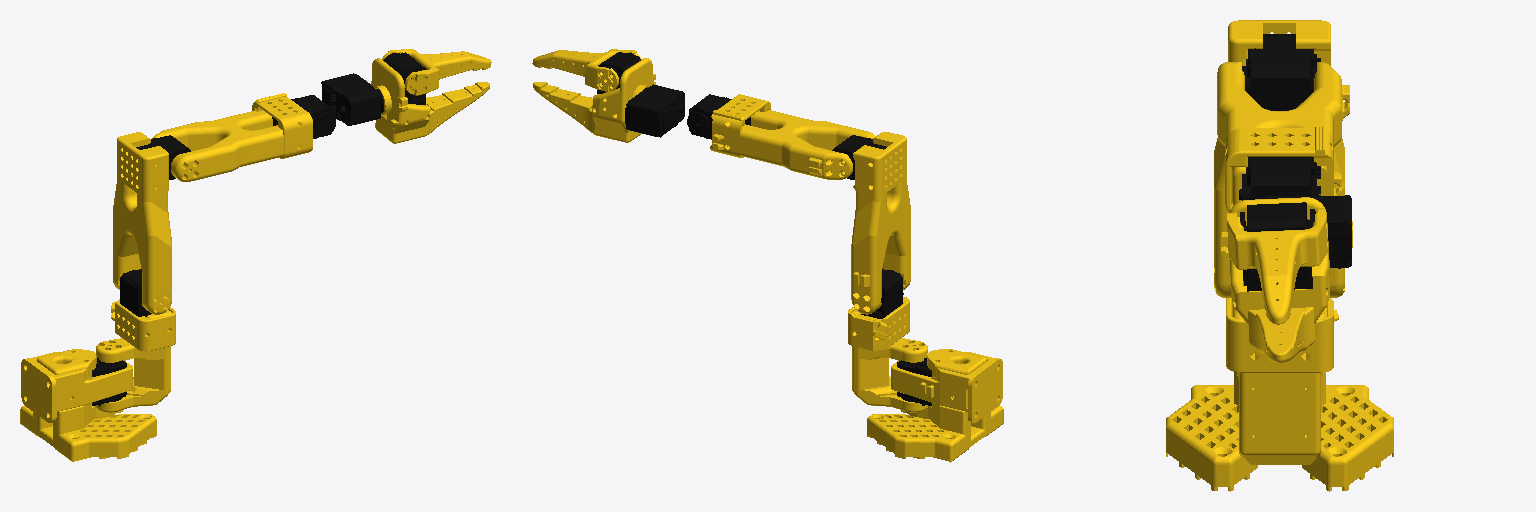
The robot description file, URDF, robot "so101_new_calib":
<?xml version="1.0" encoding="utf-8"?>
<!-- Generated using onshape-to-robot -->
<!-- Onshape https://cad.onshape.com/documents/7715cc284bb430fe6dab4ffd/w/4fd0791b683777b02f8d975a/e/826c553ede3b7592eb9ca800 -->
<robot name="so101_new_calib">

  <!-- Materials -->
  <material name="3d_printed">
    <color rgba="1.0 0.82 0.12 1.0"/>
  </material>
  <material name="sts3215">
    <color rgba="0.1 0.1 0.1 1.0"/>
  </material>

  <!-- Link base -->
  <link name="base_link">
    <inertial>
      <origin xyz="0.0137179 -5.19711e-05 0.0334843" rpy="0 0 0"/>
      <mass value="0.147"/>
      <inertia ixx="0.000114686" ixy="-4.59787e-07" ixz="4.97151e-06" iyy="0.000136117" iyz="9.75275e-08" izz="0.000130364"/>
    </inertial>
    <!-- Part base_motor_holder_so101_v1 -->
    <visual>
      <origin xyz="-0.00636471 -9.94414e-05 -0.0024" rpy="1.5708 -1.67685e-15 1.5708"/>
      <geometry>
        <mesh filename="assets/base_motor_holder_so101_v1.obj"/>
      </geometry>
      <material name="3d_printed"/>
    </visual>
    <collision>
      <origin xyz="-0.00636471 -9.94414e-05 -0.0024" rpy="1.5708 -1.67685e-15 1.5708"/>
      <geometry>
        <mesh filename="assets/base_motor_holder_so101_v1.obj"/>
      </geometry>
    </collision>
    <!-- Part base_so101_v2 -->
    <visual>
      <origin xyz="-0.00636471 -8.97657e-09 -0.0024" rpy="1.5708 -2.78073e-29 1.5708"/>
      <geometry>
        <mesh filename="assets/base_so101_v2.obj"/>
      </geometry>
      <material name="3d_printed"/>
    </visual>
    <collision>
      <origin xyz="-0.00636471 -8.97657e-09 -0.0024" rpy="1.5708 -2.78073e-29 1.5708"/>
      <geometry>
        <mesh filename="assets/base_so101_v2.obj"/>
      </geometry>
    </collision>
    <!-- Part sts3215_03a_v1 -->
    <visual>
      <origin xyz="0.0263353 -8.97657e-09 0.0437" rpy="-8.21148e-16 7.84513e-18 1.249e-15"/>
      <geometry>
        <mesh filename="assets/sts3215_03a_v1.obj"/>
      </geometry>
      <material name="sts3215"/>
    </visual>
    <collision>
      <origin xyz="0.0263353 -8.97657e-09 0.0437" rpy="-8.21148e-16 7.84513e-18 1.249e-15"/>
      <geometry>
        <mesh filename="assets/sts3215_03a_v1.obj"/>
      </geometry>
    </collision>
    <!-- Part waveshare_mounting_plate_so101_v2 -->
    <visual>
      <origin xyz="-0.0309827 -0.000199441 0.0474" rpy="1.5708 -1.35493e-14 1.5708"/>
      <geometry>
        <mesh filename="assets/waveshare_mounting_plate_so101_v2.obj"/>
      </geometry>
      <material name="3d_printed"/>
    </visual>
    <collision>
      <origin xyz="-0.0309827 -0.000199441 0.0474" rpy="1.5708 -1.35493e-14 1.5708"/>
      <geometry>
        <mesh filename="assets/waveshare_mounting_plate_so101_v2.obj"/>
      </geometry>
    </collision>
  </link>

  <!-- Link shoulder -->
  <link name="shoulder_link">
    <inertial>
      <origin xyz="-0.0307604 -1.66727e-05 -0.0252713" rpy="0 0 0"/>
      <mass value="0.100006"/>
      <inertia ixx="8.3759e-05" ixy="7.55525e-08" ixz="-1.16342e-06" iyy="8.10403e-05" iyz="1.54663e-07" izz="2.39783e-05"/>
    </inertial>
    <!-- Part sts3215_03a_v1_2 -->
    <visual>
      <origin xyz="-0.0303992 0.000422241 -0.0417" rpy="1.5708 1.5708 0"/>
      <geometry>
        <mesh filename="assets/sts3215_03a_v1.obj"/>
      </geometry>
      <material name="sts3215"/>
    </visual>
    <collision>
      <origin xyz="-0.0303992 0.000422241 -0.0417" rpy="1.5708 1.5708 0"/>
      <geometry>
        <mesh filename="assets/sts3215_03a_v1.obj"/>
      </geometry>
    </collision>
    <!-- Part motor_holder_so101_base_v1 -->
    <visual>
      <origin xyz="-0.0675992 -0.000177759 0.0158499" rpy="1.5708 -1.5708 0"/>
      <geometry>
        <mesh filename="assets/motor_holder_so101_base_v1.obj"/>
      </geometry>
      <material name="3d_printed"/>
    </visual>
    <collision>
      <origin xyz="-0.0675992 -0.000177759 0.0158499" rpy="1.5708 -1.5708 0"/>
      <geometry>
        <mesh filename="assets/motor_holder_so101_base_v1.obj"/>
      </geometry>
    </collision>
    <!-- Part rotation_pitch_so101_v1 -->
    <visual>
      <origin xyz="0.0122008 2.22413e-05 0.0464" rpy="-1.5708 2.35221e-33 0"/>
      <geometry>
        <mesh filename="assets/rotation_pitch_so101_v1.obj"/>
      </geometry>
      <material name="3d_printed"/>
    </visual>
    <collision>
      <origin xyz="0.0122008 2.22413e-05 0.0464" rpy="-1.5708 2.35221e-33 0"/>
      <geometry>
        <mesh filename="assets/rotation_pitch_so101_v1.obj"/>
      </geometry>
    </collision>
  </link>

  <!-- Link upper_arm -->
  <link name="upper_arm_link">
    <inertial>
      <origin xyz="-0.0898471 -0.00838224 0.0184089" rpy="0 0 0"/>
      <mass value="0.103"/>
      <inertia ixx="4.08002e-05" ixy="-1.97819e-05" ixz="-4.03016e-08" iyy="0.000147318" iyz="8.97326e-09" izz="0.000142487"/>
    </inertial>
    <!-- Part sts3215_03a_v1_3 -->
    <visual>
      <origin xyz="-0.11257 -0.0155 0.0187" rpy="-3.14159 -5.27356e-16 -1.5708"/>
      <geometry>
        <mesh filename="assets/sts3215_03a_v1.obj"/>
      </geometry>
      <material name="sts3215"/>
    </visual>
    <collision>
      <origin xyz="-0.11257 -0.0155 0.0187" rpy="-3.14159 -5.27356e-16 -1.5708"/>
      <geometry>
        <mesh filename="assets/sts3215_03a_v1.obj"/>
      </geometry>
    </collision>
    <!-- Part upper_arm_so101_v1 -->
    <visual>
      <origin xyz="-0.065085 0.012 0.0182" rpy="3.14159 -0 -1.30911e-30"/>
      <geometry>
        <mesh filename="assets/upper_arm_so101_v1.obj"/>
      </geometry>
      <material name="3d_printed"/>
    </visual>
    <collision>
      <origin xyz="-0.065085 0.012 0.0182" rpy="3.14159 -0 -1.30911e-30"/>
      <geometry>
        <mesh filename="assets/upper_arm_so101_v1.obj"/>
      </geometry>
    </collision>
  </link>

  <!-- Link lower_arm -->
  <link name="lower_arm_link">
    <inertial>
      <origin xyz="-0.0980701 0.00324376 0.0182831" rpy="0 0 0"/>
      <mass value="0.104"/>
      <inertia ixx="2.87438e-05" ixy="7.41152e-06" ixz="1.26409e-06" iyy="0.000159844" iyz="-4.90188e-08" izz="0.00014529"/>
    </inertial>
    <!-- Part under_arm_so101_v1 -->
    <visual>
      <origin xyz="-0.0648499 -0.032 0.0182" rpy="3.14159 -0 6.67202e-31"/>
      <geometry>
        <mesh filename="assets/under_arm_so101_v1.obj"/>
      </geometry>
      <material name="3d_printed"/>
    </visual>
    <collision>
      <origin xyz="-0.0648499 -0.032 0.0182" rpy="3.14159 -0 6.67202e-31"/>
      <geometry>
        <mesh filename="assets/under_arm_so101_v1.obj"/>
      </geometry>
    </collision>
    <!-- Part motor_holder_so101_wrist_v1 -->
    <visual>
      <origin xyz="-0.0648499 -0.032 0.018" rpy="-3.14159 -2.55351e-15 -1.83387e-30"/>
      <geometry>
        <mesh filename="assets/motor_holder_so101_wrist_v1.obj"/>
      </geometry>
      <material name="3d_printed"/>
    </visual>
    <collision>
      <origin xyz="-0.0648499 -0.032 0.018" rpy="-3.14159 -2.55351e-15 -1.83387e-30"/>
      <geometry>
        <mesh filename="assets/motor_holder_so101_wrist_v1.obj"/>
      </geometry>
    </collision>
    <!-- Part sts3215_03a_v1_4 -->
    <visual>
      <origin xyz="-0.1224 0.0052 0.0187" rpy="-3.14159 -7.88861e-31 -3.14159"/>
      <geometry>
        <mesh filename="assets/sts3215_03a_v1.obj"/>
      </geometry>
      <material name="sts3215"/>
    </visual>
    <collision>
      <origin xyz="-0.1224 0.0052 0.0187" rpy="-3.14159 -7.88861e-31 -3.14159"/>
      <geometry>
        <mesh filename="assets/sts3215_03a_v1.obj"/>
      </geometry>
    </collision>
  </link>

  <!-- Link wrist -->
  <link name="wrist_link">
    <inertial>
      <origin xyz="-0.000103312 -0.0386143 0.0281156" rpy="0 0 0"/>
      <mass value="0.079"/>
      <inertia ixx="3.68263e-05" ixy="1.7893e-08" ixz="-5.28128e-08" iyy="2.5391e-05" iyz="3.6412e-06" izz="2.1e-05"/>
    </inertial>
    <!-- Part sts3215_03a_no_horn_v1 -->
    <visual>
      <origin xyz="8.32667e-17 -0.0424 0.0306" rpy="1.5708 1.5708 0"/>
      <geometry>
        <mesh filename="assets/sts3215_03a_no_horn_v1.obj"/>
      </geometry>
      <material name="sts3215"/>
    </visual>
    <collision>
      <origin xyz="8.32667e-17 -0.0424 0.0306" rpy="1.5708 1.5708 0"/>
      <geometry>
        <mesh filename="assets/sts3215_03a_no_horn_v1.obj"/>
      </geometry>
    </collision>
    <!-- Part wrist_roll_pitch_so101_v2 -->
    <visual>
      <origin xyz="0 -0.028 0.0181" rpy="-1.5708 -1.5708 0"/>
      <geometry>
        <mesh filename="assets/wrist_roll_pitch_so101_v2.obj"/>
      </geometry>
      <material name="3d_printed"/>
    </visual>
    <collision>
      <origin xyz="0 -0.028 0.0181" rpy="-1.5708 -1.5708 0"/>
      <geometry>
        <mesh filename="assets/wrist_roll_pitch_so101_v2.obj"/>
      </geometry>
    </collision>
  </link>

  <!-- Link gripper -->
  <link name="gripper_link">
    <inertial>
      <origin xyz="0.000213627 0.000245138 -0.025187" rpy="0 0 0"/>
      <mass value="0.087"/>
      <inertia ixx="2.75087e-05" ixy="-3.35241e-07" ixz="-5.7352e-06" iyy="4.33657e-05" iyz="-5.17847e-08" izz="3.45059e-05"/>
    </inertial>
    <!-- Part sts3215_03a_v1_5 -->
    <visual>
      <origin xyz="0.0077 0.0001 -0.0234" rpy="-1.5708 -5.19179e-17 -1.66533e-16"/>
      <geometry>
        <mesh filename="assets/sts3215_03a_v1.obj"/>
      </geometry>
      <material name="sts3215"/>
    </visual>
    <collision>
      <origin xyz="0.0077 0.0001 -0.0234" rpy="-1.5708 -5.19179e-17 -1.66533e-16"/>
      <geometry>
        <mesh filename="assets/sts3215_03a_v1.obj"/>
      </geometry>
    </collision>
    <!-- Part wrist_roll_follower_so101_v1 -->
    <visual>
      <origin xyz="8.32667e-17 -0.000218214 0.000949706" rpy="-3.14159 -5.55112e-17 0"/>
      <geometry>
        <mesh filename="assets/wrist_roll_follower_so101_v1.obj"/>
      </geometry>
      <material name="3d_printed"/>
    </visual>
    <collision>
      <origin xyz="8.32667e-17 -0.000218214 0.000949706" rpy="-3.14159 -5.55112e-17 0"/>
      <geometry>
        <mesh filename="assets/wrist_roll_follower_so101_v1.obj"/>
      </geometry>
    </collision>
  </link>

  <!-- Gripper frame (dummy link + fixed joint) -->
  <link name="gripper_frame_link">
    <origin xyz="0 0 0" rpy="0 -0 0"/>
    <inertial>
      <origin xyz="0 0 0" rpy="0 0 0"/>
      <mass value="1e-9"/>
      <inertia ixx="0" ixy="0" ixz="0" iyy="0" iyz="0" izz="0"/>
    </inertial>
  </link>

  <joint name="gripper_frame_joint" type="fixed">
    <origin xyz="-0.0079 -0.000218121 -0.0981274" rpy="0 3.14159 0"/>
    <parent link="gripper_link"/>
    <child link="gripper_frame_link"/>
    <axis xyz="0 0 0"/>
  </joint>

  <!-- Link moving_jaw_so101_v1 -->
  <link name="moving_jaw_so101_v1_link">
    <inertial>
      <origin xyz="-0.00157495 -0.0300244 0.0192755" rpy="0 0 0"/>
      <mass value="0.012"/>
      <inertia ixx="6.61427e-06" ixy="-3.19807e-07" ixz="-5.90717e-09" iyy="1.89032e-06" iyz="-1.09945e-07" izz="5.28738e-06"/>
    </inertial>
    <!-- Part moving_jaw_so101_v1 -->
    <visual>
      <origin xyz="-5.55112e-17 -5.55112e-17 0.0189" rpy="9.53145e-17 6.93889e-18 1.24077e-24"/>
      <geometry>
        <mesh filename="assets/moving_jaw_so101_v1.obj"/>
      </geometry>
      <material name="3d_printed"/>
    </visual>
    <collision>
      <origin xyz="-5.55112e-17 -5.55112e-17 0.0189" rpy="9.53145e-17 6.93889e-18 1.24077e-24"/>
      <geometry>
        <mesh filename="assets/moving_jaw_so101_v1.obj"/>
      </geometry>
    </collision>
  </link>

  <!-- Joint from gripper to moving_jaw_so101_v1 -->
  <joint name="gripper" type="revolute">
    <origin xyz="0.0202 0.0188 -0.0234" rpy="1.5708 -5.24284e-08 -1.41553e-15"/>
    <parent link="gripper_link"/>
    <child link="moving_jaw_so101_v1_link"/>
    <axis xyz="0 0 1"/>
    <limit effort="10" velocity="10" lower="-0.174533" upper="1.74533"/>
  </joint>

  <transmission name="gripper_trans">
    <type>transmission_interface/SimpleTransmission</type>
    <joint name="gripper">
      <hardwareInterface>hardware_interface/PositionJointInterface</hardwareInterface>
    </joint>
    <actuator name="motor6">
      <hardwareInterface>hardware_interface/PositionJointInterface</hardwareInterface>
      <mechanicalReduction>1</mechanicalReduction>
    </actuator>
  </transmission>

  <!-- Joint from wrist to gripper -->
  <joint name="wrist_roll" type="revolute">
    <origin xyz="5.55112e-17 -0.0611 0.0181" rpy="1.5708 0.0486795 3.14159"/>
    <parent link="wrist_link"/>
    <child link="gripper_link"/>
    <axis xyz="0 0 1"/>
    <limit effort="10" velocity="10" lower="-2.74385" upper="2.84121"/>
  </joint>

  <transmission name="wrist_roll_trans">
    <type>transmission_interface/SimpleTransmission</type>
    <joint name="wrist_roll">
      <hardwareInterface>hardware_interface/PositionJointInterface</hardwareInterface>
    </joint>
    <actuator name="motor5">
      <hardwareInterface>hardware_interface/PositionJointInterface</hardwareInterface>
      <mechanicalReduction>1</mechanicalReduction>
    </actuator>
  </transmission>

  <!-- Joint from lower_arm to wrist -->
  <joint name="wrist_flex" type="revolute">
    <origin xyz="-0.1349 0.0052 3.62355e-17" rpy="4.02456e-15 8.67362e-16 -1.5708"/>
    <parent link="lower_arm_link"/>
    <child link="wrist_link"/>
    <axis xyz="0 0 1"/>
    <limit effort="10" velocity="10" lower="-1.65806" upper="1.65806"/>
  </joint>

  <transmission name="wrist_flex_trans">
    <type>transmission_interface/SimpleTransmission</type>
    <joint name="wrist_flex">
      <hardwareInterface>hardware_interface/PositionJointInterface</hardwareInterface>
    </joint>
    <actuator name="motor4">
      <hardwareInterface>hardware_interface/PositionJointInterface</hardwareInterface>
      <mechanicalReduction>1</mechanicalReduction>
    </actuator>
  </transmission>

  <!-- Joint from upper_arm to lower_arm -->
  <!-- Note: 5-degree calibration offset applied to joint limits -->
  <joint name="elbow_flex" type="revolute">
    <origin xyz="-0.11257 -0.028 1.73763e-16" rpy="-3.63608e-16 8.74301e-16 1.5708"/>
    <parent link="upper_arm_link"/>
    <child link="lower_arm_link"/>
    <axis xyz="0 0 1"/>
    <limit effort="10" velocity="10" lower="-1.69" upper="1.69"/>
  </joint>

  <transmission name="elbow_flex_trans">
    <type>transmission_interface/SimpleTransmission</type>
    <joint name="elbow_flex">
      <hardwareInterface>hardware_interface/PositionJointInterface</hardwareInterface>
    </joint>
    <actuator name="motor3">
      <hardwareInterface>hardware_interface/PositionJointInterface</hardwareInterface>
      <mechanicalReduction>1</mechanicalReduction>
    </actuator>
  </transmission>

  <!-- Joint from shoulder to upper_arm -->
  <joint name="shoulder_lift" type="revolute">
    <origin xyz="-0.0303992 -0.0182778 -0.0542" rpy="-1.5708 -1.5708 0"/>
    <parent link="shoulder_link"/>
    <child link="upper_arm_link"/>
    <axis xyz="0 0 1"/>
    <limit effort="10" velocity="10" lower="-1.74533" upper="1.74533"/>
  </joint>

  <transmission name="shoulder_lift_trans">
    <type>transmission_interface/SimpleTransmission</type>
    <joint name="shoulder_lift">
      <hardwareInterface>hardware_interface/PositionJointInterface</hardwareInterface>
    </joint>
    <actuator name="motor2">
      <hardwareInterface>hardware_interface/PositionJointInterface</hardwareInterface>
      <mechanicalReduction>1</mechanicalReduction>
    </actuator>
  </transmission>

  <!-- Joint from base to shoulder -->
  <joint name="shoulder_pan" type="revolute">
    <origin xyz="0.0388353 -8.97657e-09 0.0624" rpy="3.14159 4.18253e-17 -3.14159"/>
    <parent link="base_link"/>
    <child link="shoulder_link"/>
    <axis xyz="0 0 1"/>
    <limit effort="10" velocity="10" lower="-1.91986" upper="1.91986"/>
  </joint>

  <transmission name="shoulder_pan_trans">
    <type>transmission_interface/SimpleTransmission</type>
    <joint name="shoulder_pan">
      <hardwareInterface>hardware_interface/PositionJointInterface</hardwareInterface>
    </joint>
    <actuator name="motor1">
      <hardwareInterface>hardware_interface/PositionJointInterface</hardwareInterface>
      <mechanicalReduction>1</mechanicalReduction>
    </actuator>
  </transmission> 

</robot>

--- What the picture shows (computed from the rendered views, not written in the file) ---
3 views of the same robot in one strip: view 1: azimuth 30°, elevation 25°; view 2: azimuth 150°, elevation 25°; view 3: azimuth 270°, elevation 25° (orthographic).
Model so101_new_calib with 8 links and 7 joints (6 revolute, 1 fixed), rooted at base_link, posed every joint at zero.
Visible links, largest first — view 1: base_link, upper_arm_link, lower_arm_link, shoulder_link, gripper_link, wrist_link, moving_jaw_so101_v1_link; view 2: base_link, upper_arm_link, lower_arm_link, shoulder_link, gripper_link, wrist_link, moving_jaw_so101_v1_link; view 3: lower_arm_link, base_link, shoulder_link, upper_arm_link, gripper_link, moving_jaw_so101_v1_link, wrist_link.
Link boxes in pixels (bbox=[...]): base_link: bbox=[20, 349, 156, 461]; upper_arm_link: bbox=[113, 132, 190, 314]; lower_arm_link: bbox=[152, 93, 335, 181]; shoulder_link: bbox=[96, 269, 175, 412]; gripper_link: bbox=[371, 52, 489, 143]; wrist_link: bbox=[321, 73, 384, 125]; moving_jaw_so101_v1_link: bbox=[382, 49, 491, 95]; base_link: bbox=[867, 349, 1003, 462]; upper_arm_link: bbox=[832, 132, 910, 314]; lower_arm_link: bbox=[687, 94, 875, 179]; shoulder_link: bbox=[848, 269, 927, 412]; gripper_link: bbox=[533, 52, 655, 142]; wrist_link: bbox=[625, 84, 684, 137]; moving_jaw_so101_v1_link: bbox=[532, 49, 641, 91]; lower_arm_link: bbox=[1217, 62, 1349, 211]; base_link: bbox=[1166, 372, 1393, 491]; shoulder_link: bbox=[1226, 298, 1338, 464]; upper_arm_link: bbox=[1214, 20, 1352, 297]; gripper_link: bbox=[1221, 197, 1329, 362]; moving_jaw_so101_v1_link: bbox=[1227, 208, 1327, 324]; wrist_link: bbox=[1262, 195, 1351, 268].
Bounding box of the posed robot: 0.4296 × 0.1109 × 0.2681 m (x, y, z).
16 mesh visuals loaded from 13 distinct referenced files (12 OBJ); not drawn: 1 (reference not matched to a file when rendering).
